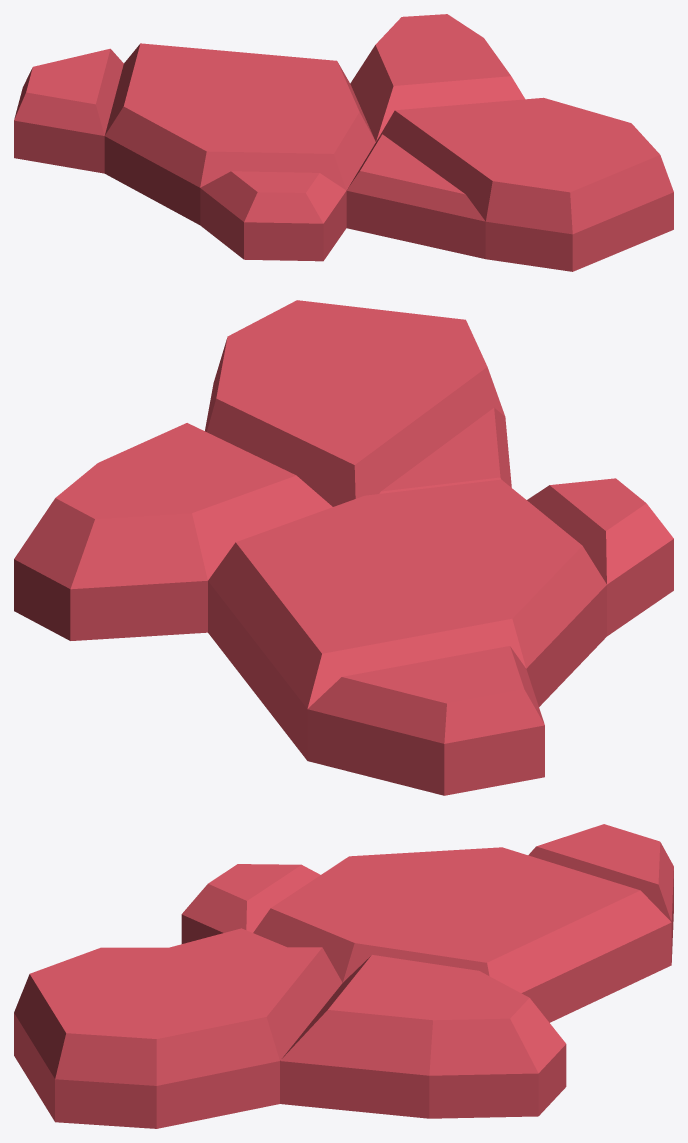
The model's file is RockType4 01.fbx.
3 renders of one model, top to bottom at view 1: azimuth 30°, elevation 25°; view 2: azimuth 150°, elevation 25°; view 3: azimuth 270°, elevation 25°, orthographic. The views are drawn at different scales.
Parts seen in each view (by area): view 1: Rock Type4 01 mesh; view 2: Rock Type4 01 mesh; view 3: Rock Type4 01 mesh.
Boxes of the visible parts, left/top/right/bottom form: Rock Type4 01 mesh: left=14, top=14, right=673, bottom=271; Rock Type4 01 mesh: left=14, top=300, right=673, bottom=795; Rock Type4 01 mesh: left=14, top=824, right=673, bottom=1128.
Bounding box in the file's own units: 186 × 31.56 × 214.
